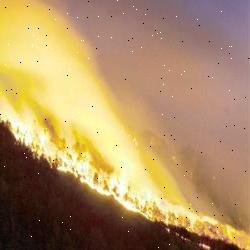fire: (5, 118, 250, 250)
